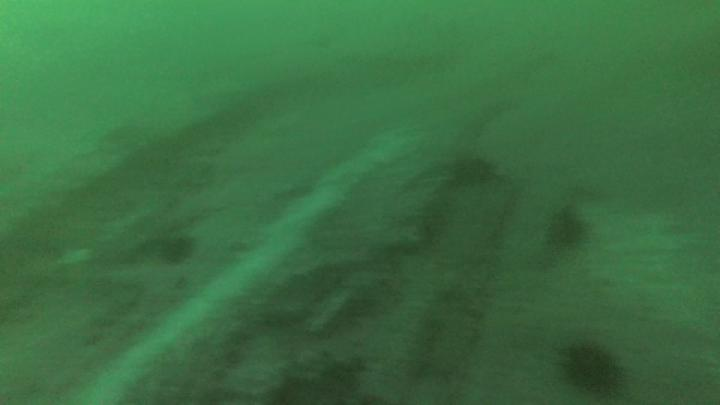echinus: (553, 334, 632, 400)
